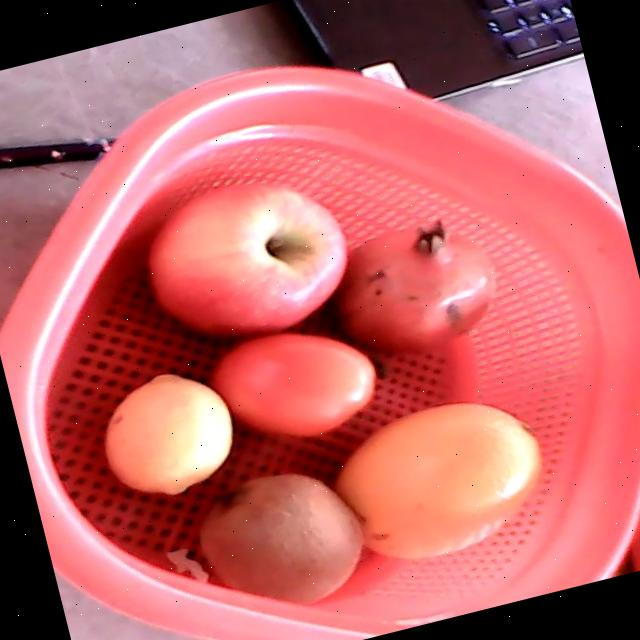apple: (145, 183, 345, 336)
kiwi: (200, 475, 363, 602)
lemon: (103, 371, 231, 495)
orange: (333, 404, 541, 559)
pomegranate: (335, 213, 493, 352)
tomato: (211, 333, 377, 437)
